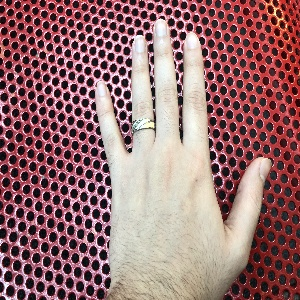hand: (94, 19, 270, 293)
